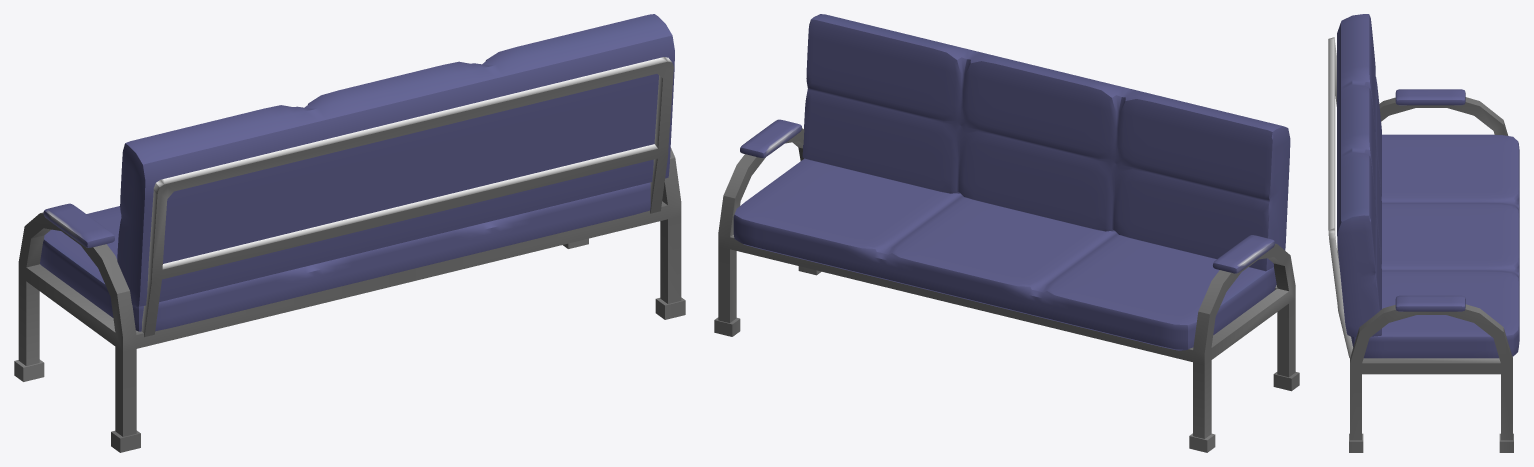
Rendered from SM_Blue_Bench.001.fbx.
3 renders of one model, left to right at view 1: azimuth 30°, elevation 25°; view 2: azimuth 150°, elevation 25°; view 3: azimuth 270°, elevation 25°, orthographic. The views are drawn at different scales.
Parts seen in each view (by area): view 1: Blue_Bench.001; view 2: Blue_Bench.001; view 3: Blue_Bench.001.
Boxes of the visible parts, x1=… form: Blue_Bench.001: x1=14, y1=14, x2=685, y2=452; Blue_Bench.001: x1=714, y1=14, x2=1299, y2=452; Blue_Bench.001: x1=1328, y1=14, x2=1519, y2=452.
Size of the model in its own units: 243 by 120 by 89.98.
